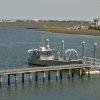Boat: (23, 39, 99, 84)
